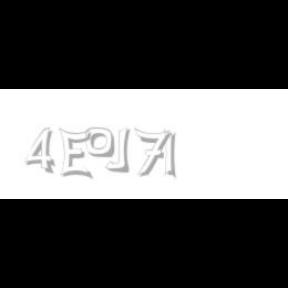4: (24, 128, 56, 174)
7: (134, 128, 172, 178)
E: (59, 128, 92, 180)
I: (164, 128, 178, 180)
J: (104, 128, 130, 172)
o: (86, 128, 114, 158)
